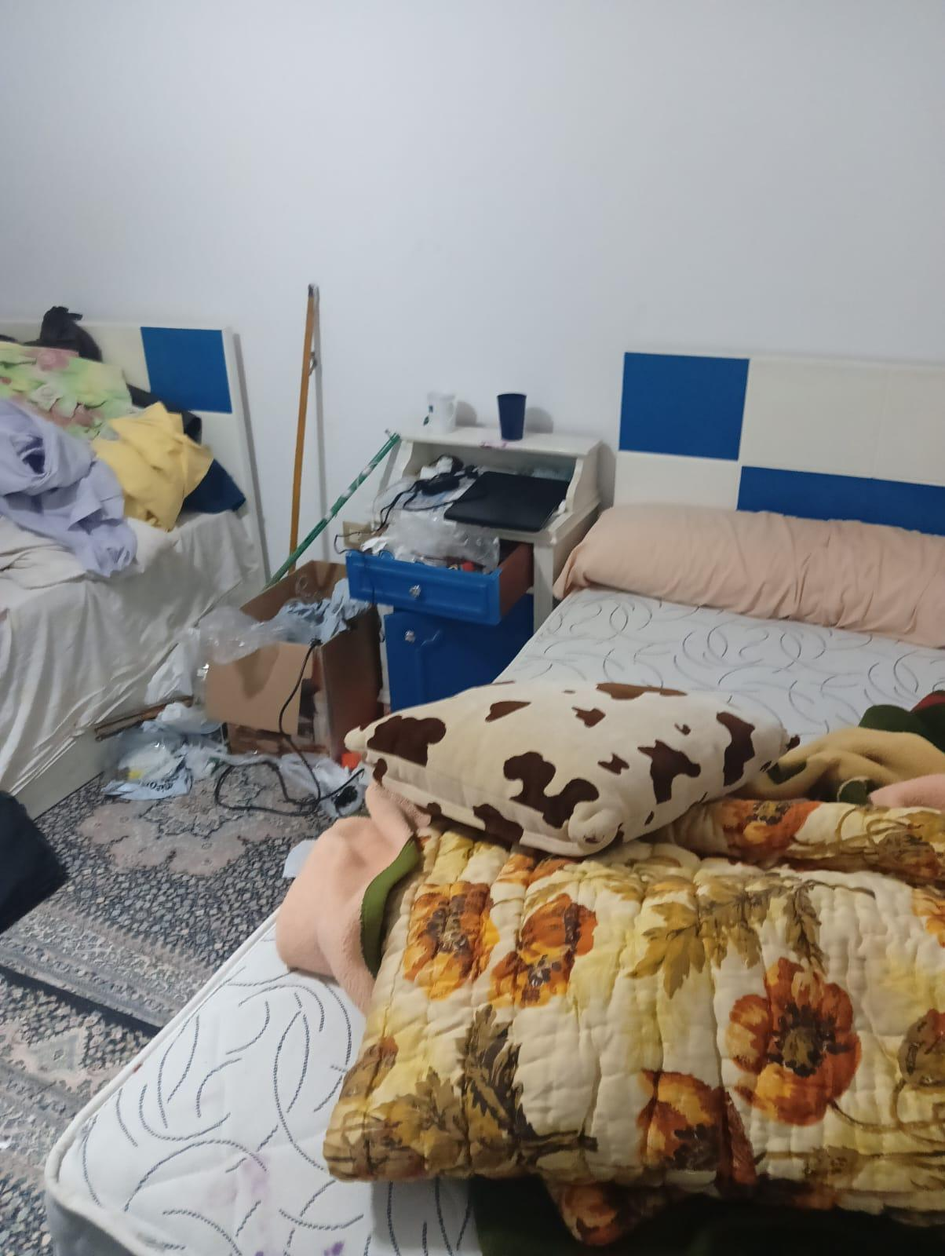cup: (497, 392, 525, 440), (427, 392, 457, 433)
